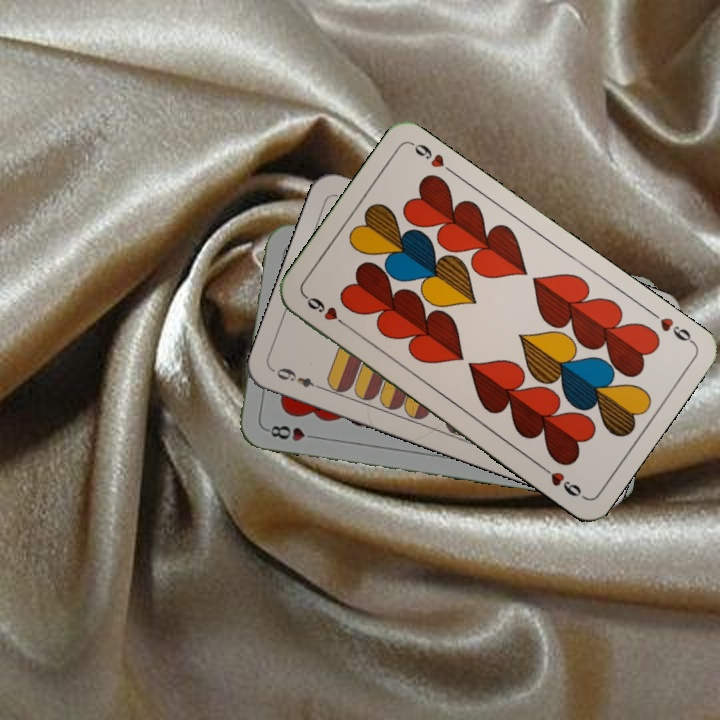E9: (270, 363, 327, 393)
H8: (262, 421, 321, 444)
H9: (300, 290, 352, 330), (645, 306, 697, 346)
